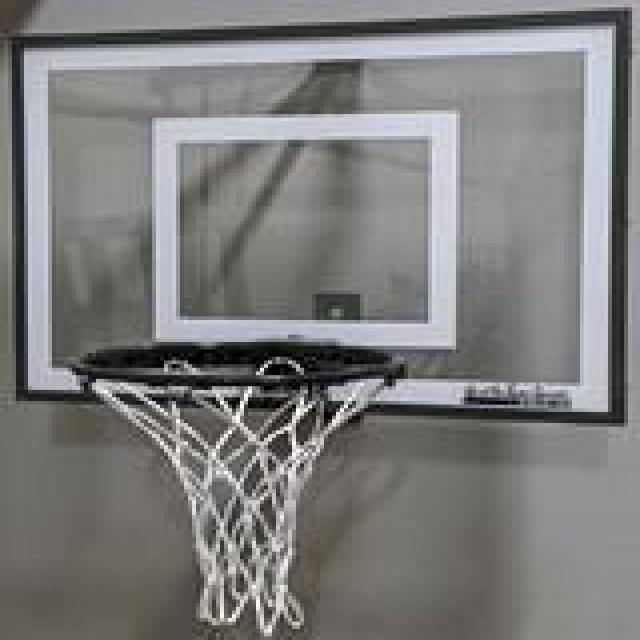hoop: (72, 342, 404, 640)
